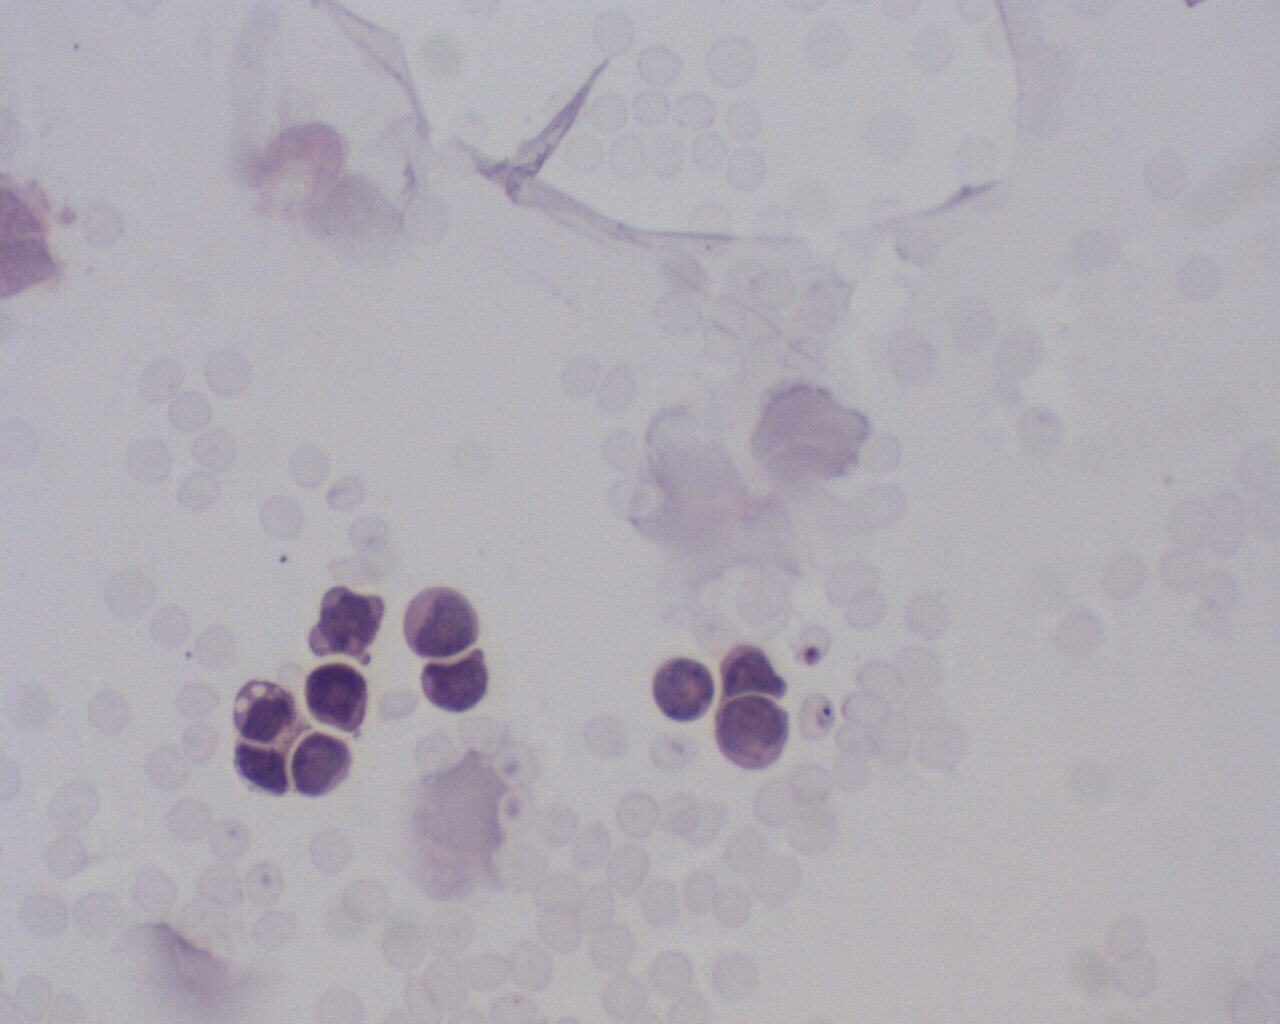ab: (305, 585, 392, 666), (712, 691, 789, 769), (405, 581, 483, 659), (227, 671, 300, 742), (302, 661, 370, 735), (415, 649, 490, 715), (289, 729, 355, 801), (719, 636, 791, 700), (651, 656, 717, 723), (227, 738, 294, 801)
